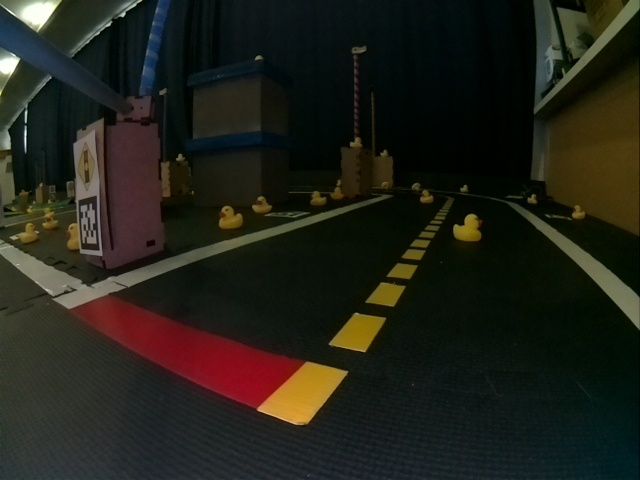Duckie: (453, 214, 483, 239), (217, 206, 242, 230), (66, 223, 80, 251), (252, 196, 267, 214), (309, 191, 325, 207), (572, 204, 586, 219), (420, 189, 433, 199), (350, 138, 361, 147), (380, 149, 389, 158), (526, 195, 536, 203), (460, 186, 468, 193)
QR code: (77, 199, 100, 252)
Signal sign: (74, 141, 98, 191)
